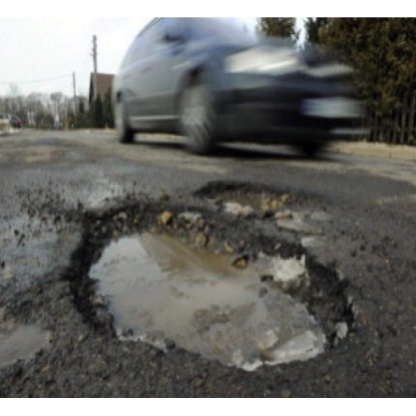pothole: (40, 191, 369, 379)
